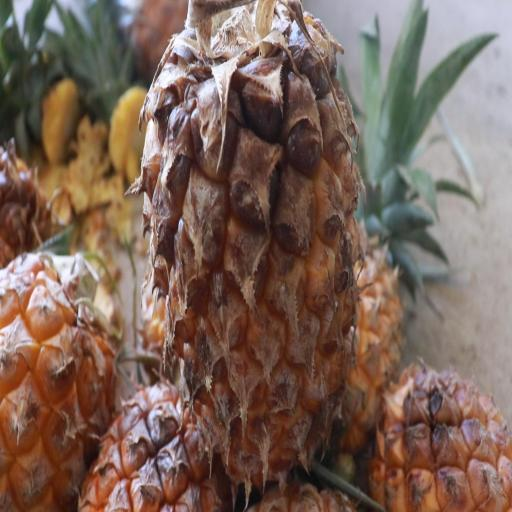Pineapple - v8 v1: (136, 0, 363, 493), (0, 240, 124, 512), (70, 376, 235, 512), (368, 359, 512, 512)
